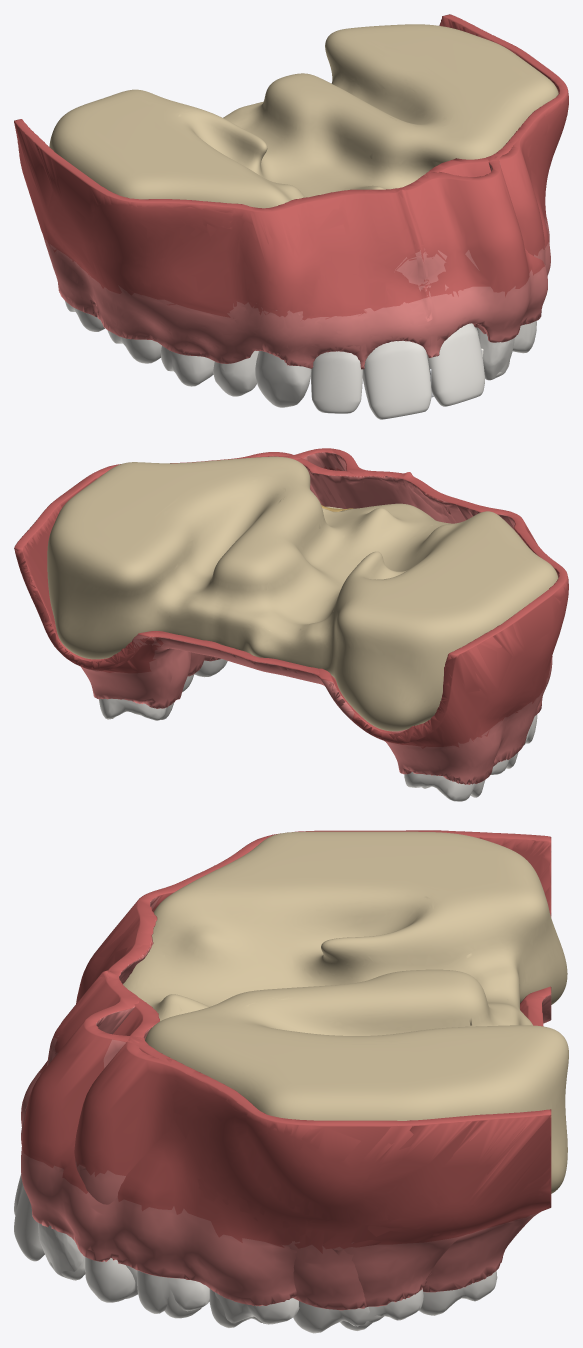
The model's file is abg-3-long-term.glb.
3 renders of one model, top to bottom at view 1: azimuth 30°, elevation 25°; view 2: azimuth 150°, elevation 25°; view 3: azimuth 270°, elevation 25°, orthographic. The views are drawn at different scales.
Visible parts, largest first — view 1: option-substitution-soft-tissue, soft-tissue, bone, option-substitution-bone, teeth, option-substitution-teeth; view 2: bone, option-substitution-bone, soft-tissue, option-substitution-soft-tissue, teeth, option-substitution-teeth; view 3: bone, option-substitution-soft-tissue, option-substitution-bone, soft-tissue, option-substitution-teeth, teeth.
Part boxes in pixels (x1,y1,x2,y2): option-substitution-soft-tissue: (14, 14, 568, 369); soft-tissue: (14, 14, 568, 369); bone: (49, 24, 558, 208); option-substitution-bone: (49, 24, 558, 207); teeth: (64, 300, 484, 419); option-substitution-teeth: (66, 304, 536, 419); bone: (47, 456, 558, 731); option-substitution-bone: (47, 456, 558, 731); soft-tissue: (14, 452, 568, 784); option-substitution-soft-tissue: (14, 448, 568, 784); teeth: (99, 660, 535, 801); option-substitution-teeth: (194, 659, 537, 800); bone: (123, 831, 568, 1192); option-substitution-soft-tissue: (21, 830, 551, 1306); option-substitution-bone: (124, 831, 568, 1193); soft-tissue: (21, 830, 551, 1310); option-substitution-teeth: (14, 1173, 423, 1330); teeth: (14, 1176, 497, 1333).
Bounding box in the file's own units: 0.1012 × 0.0433 × 0.0802.
